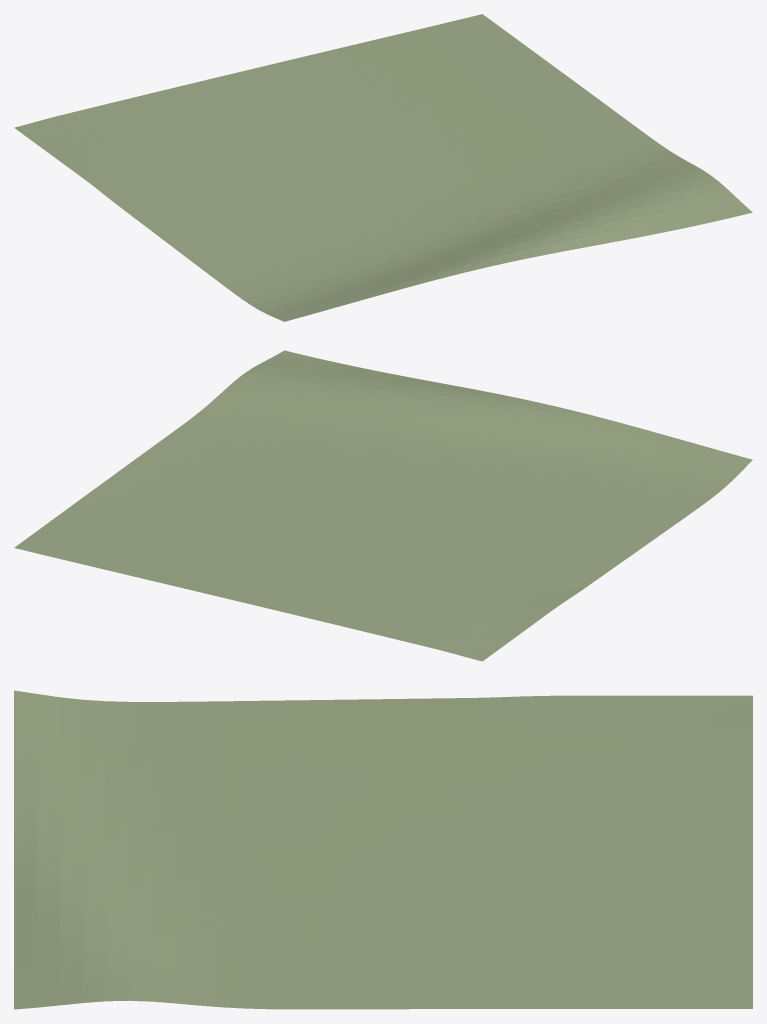
File: lunar-1-1.glb
3 renders of one model, top to bottom at view 1: azimuth 30°, elevation 25°; view 2: azimuth 150°, elevation 25°; view 3: azimuth 270°, elevation 25°, orthographic. The views are drawn at different scales.
Parts seen in each view (by area): view 1: lunar-1-1; view 2: lunar-1-1; view 3: lunar-1-1.
Boxes of the visible parts, x1,y1,x2,y2 form: lunar-1-1: (14,14,752,321); lunar-1-1: (14,350,752,661); lunar-1-1: (14,690,752,1009).
Bounding box in the file's own units: 128 × 3.58 × 128.
